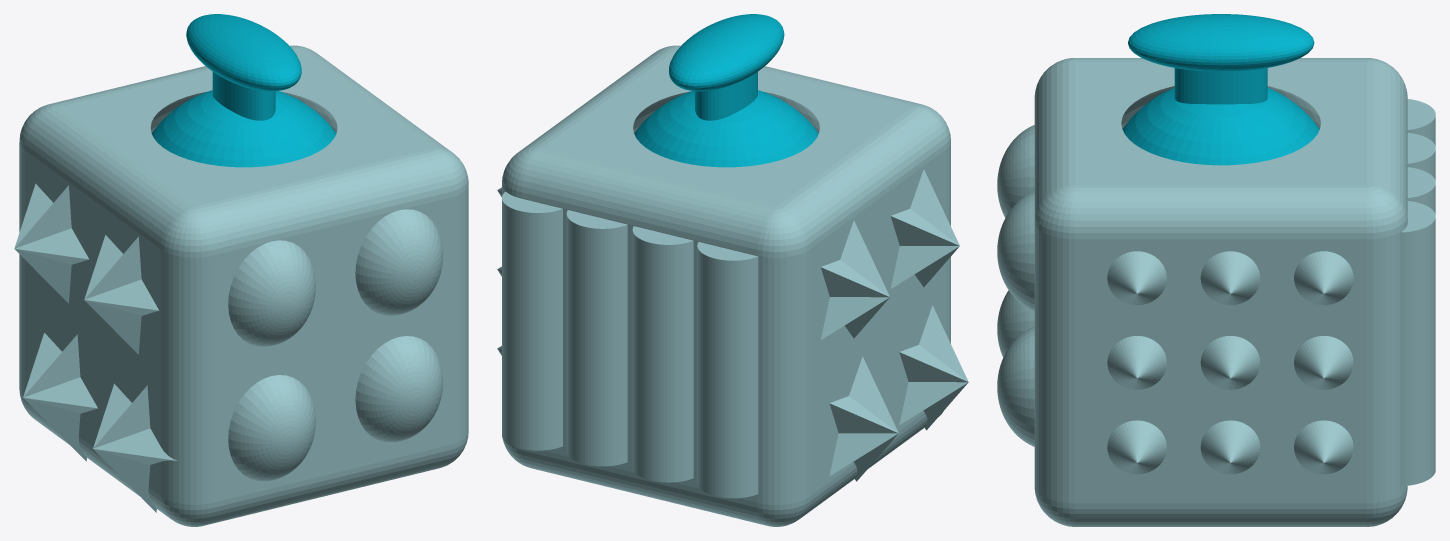
File: X - OLIVER - Sky diver blue.glb
3 renders of one model, left to right at view 1: azimuth 30°, elevation 25°; view 2: azimuth 150°, elevation 25°; view 3: azimuth 270°, elevation 25°, orthographic. The views are drawn at different scales.
Visible parts, largest first — view 1: Mesh_Mesh_head_geo.001_lambert2SG.001; view 2: Mesh_Mesh_head_geo.001_lambert2SG.001; view 3: Mesh_Mesh_head_geo.001_lambert2SG.001.
Part boxes in pixels (left/top/right/bottom): Mesh_Mesh_head_geo.001_lambert2SG.001: left=14, top=14, right=468, bottom=526; Mesh_Mesh_head_geo.001_lambert2SG.001: left=497, top=14, right=968, bottom=526; Mesh_Mesh_head_geo.001_lambert2SG.001: left=997, top=14, right=1435, bottom=526.
Size of the model in its own units: 0.05 by 0.052 by 0.047.
